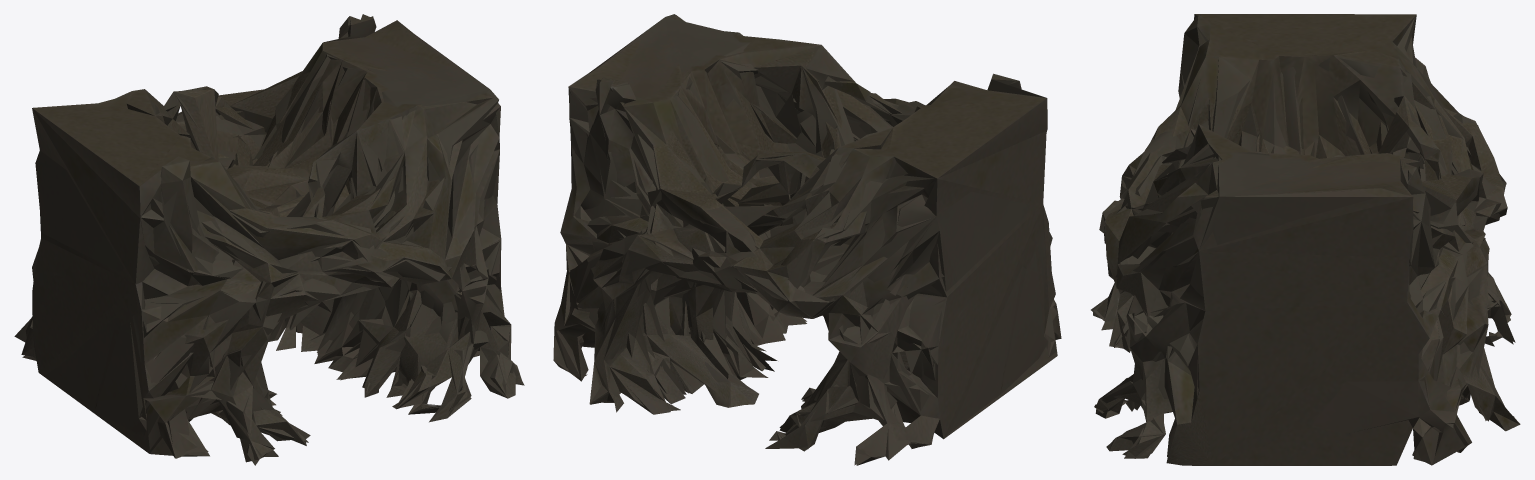
File: root_arch.glb
The picture shows the model from 3 angles, left to right: view 1: azimuth 30°, elevation 25°; view 2: azimuth 150°, elevation 25°; view 3: azimuth 270°, elevation 25°; orthographic projection. The views are drawn at different scales.
Bounding box in the file's own units: 1.91 × 1.37 × 1.89.
1 material, 1 textured.
